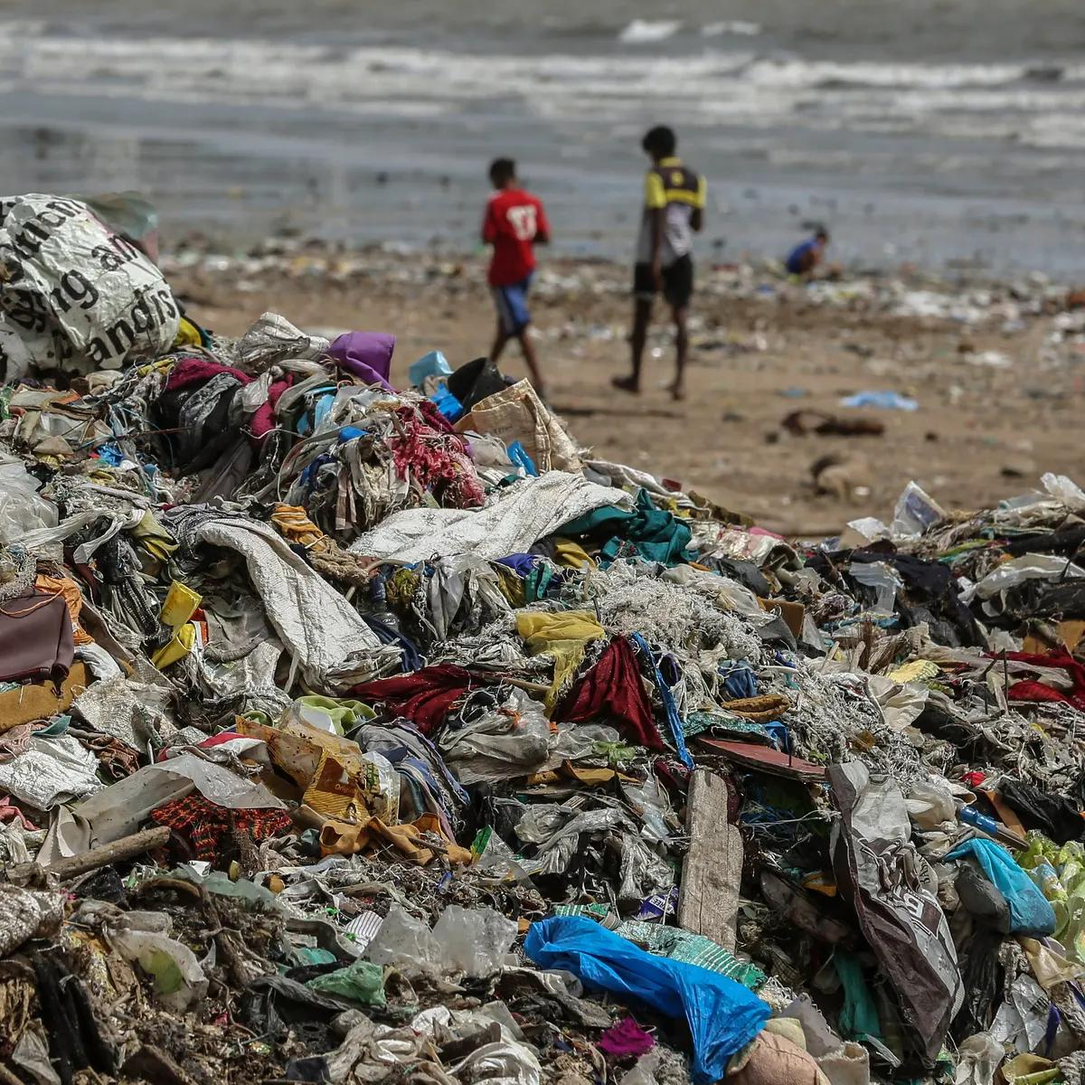garbage: (4, 389, 1085, 1085)
